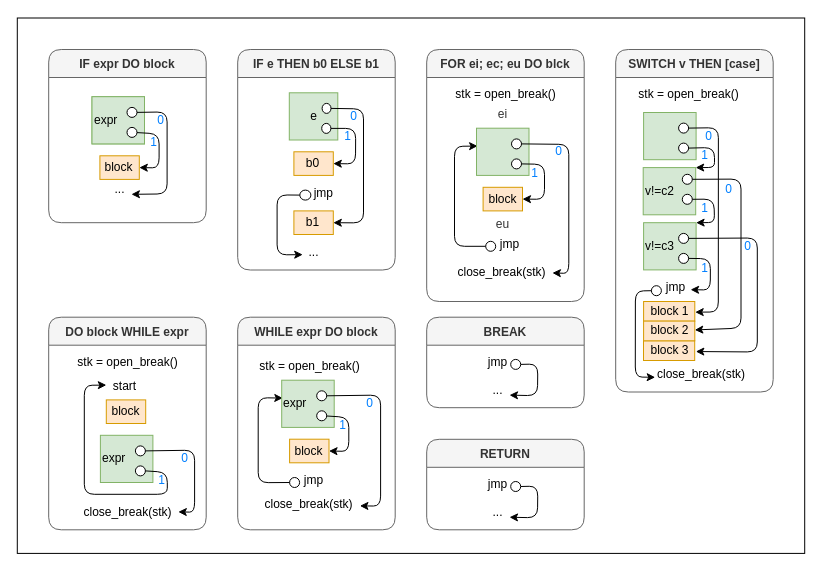
This 823x571 diagram has some shape labels left out. The centre of each missing label's shape, as x and y in pixels:
ec: point 502,151
v!=c1: point 669,136
